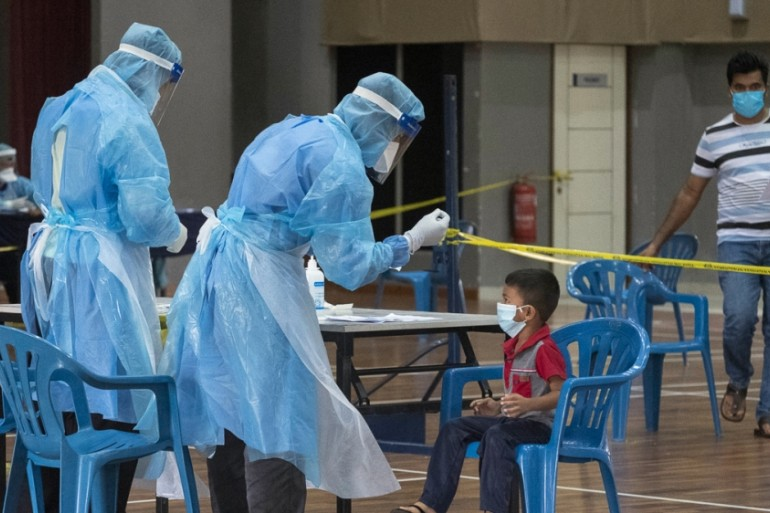Coverall: (168, 67, 413, 490), (24, 21, 182, 442)
Face_Shield: (358, 92, 426, 187), (135, 40, 187, 133)
Gloves: (404, 206, 450, 260), (166, 213, 188, 256)
with_mask: (493, 290, 530, 338), (371, 125, 399, 182), (730, 79, 765, 119)
